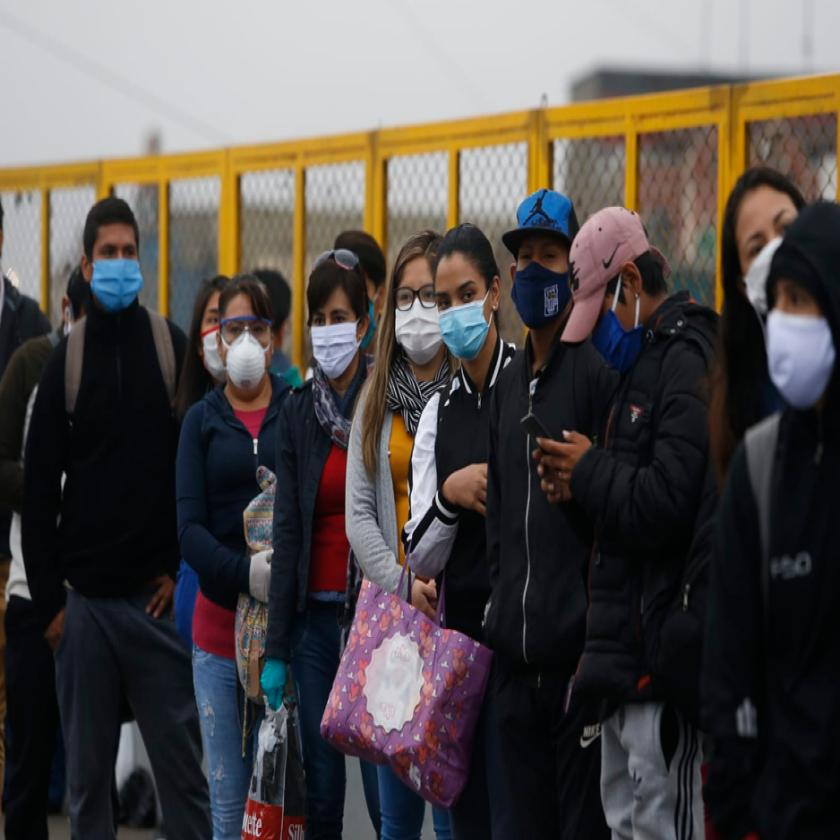Sin_casco: (764, 205, 840, 413), (721, 153, 802, 323), (435, 219, 500, 376), (301, 243, 370, 386), (388, 224, 444, 382), (79, 181, 144, 309), (217, 273, 275, 406), (193, 270, 229, 388)
